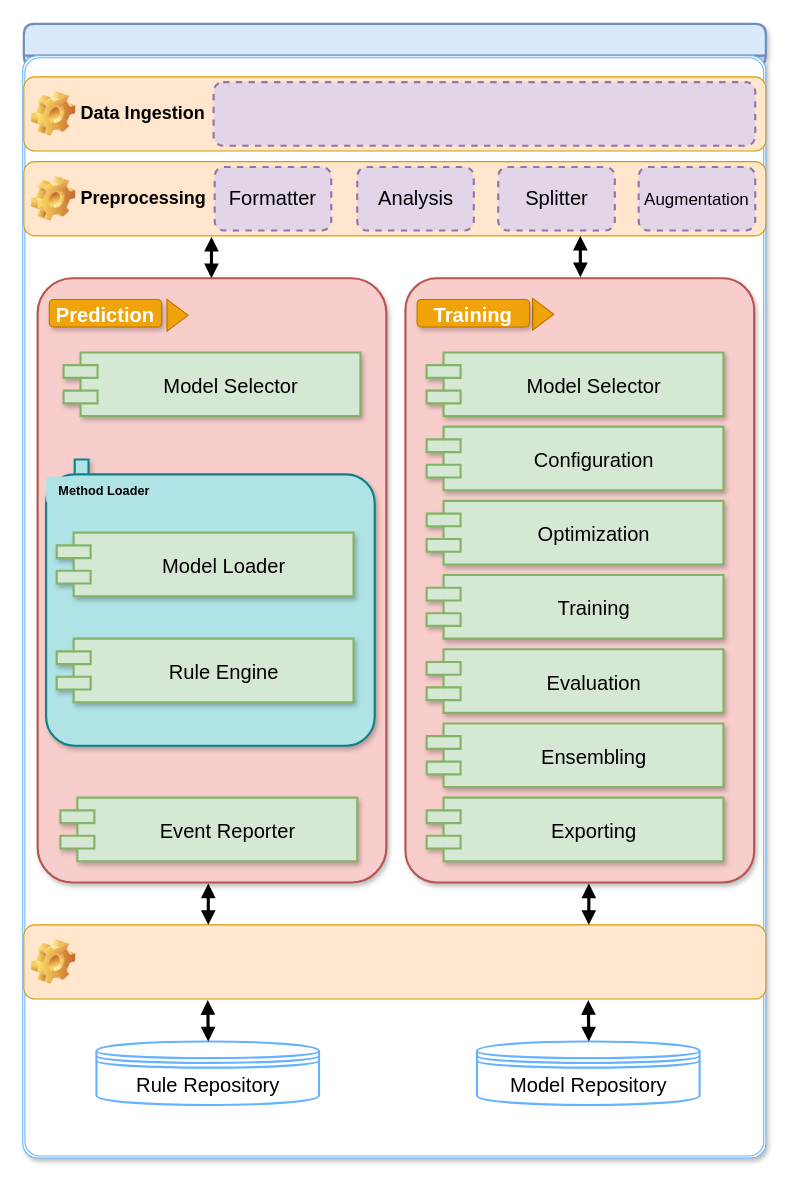
Some shapes in this 792 by 1184 pixel diagram are drawn without their labels. Here are the shapes that lost their labels. From the top down, the centre of each, then its label:
the point at 395,46: Event Detection Engine
the point at 484,113: Source Connectors
the point at 394,961: Data Bus
